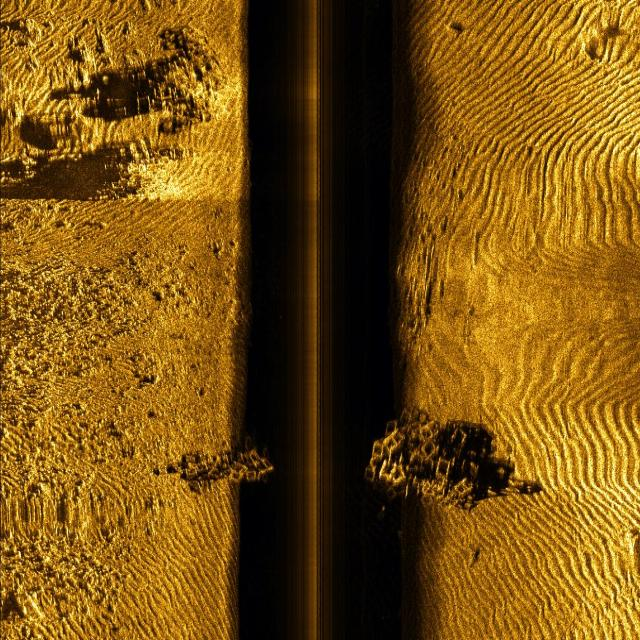artificial reef: (359, 406, 489, 518), (183, 431, 278, 488)
